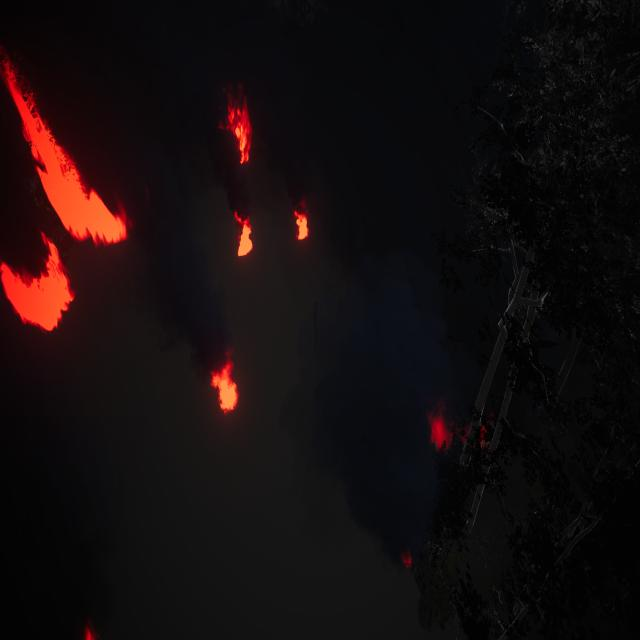Human: (306, 295, 328, 363)
